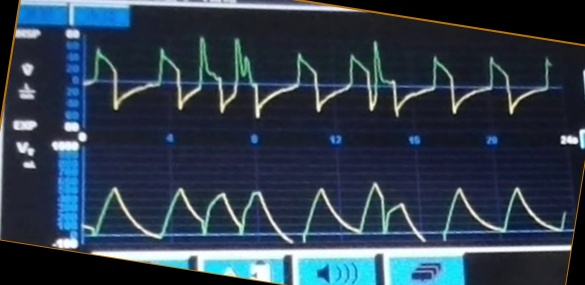Double_Triggering Flow: (95, 33, 517, 121)
Double_Triggering Volume: (85, 174, 539, 243)
